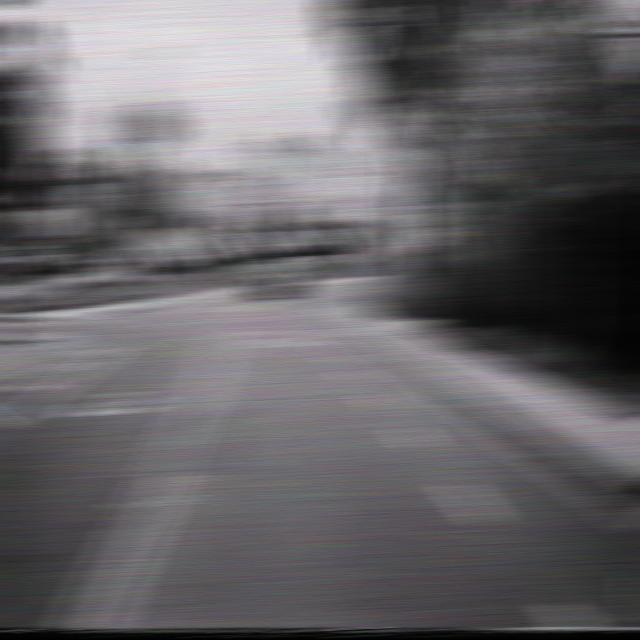stop_sign: (421, 189, 461, 233)
